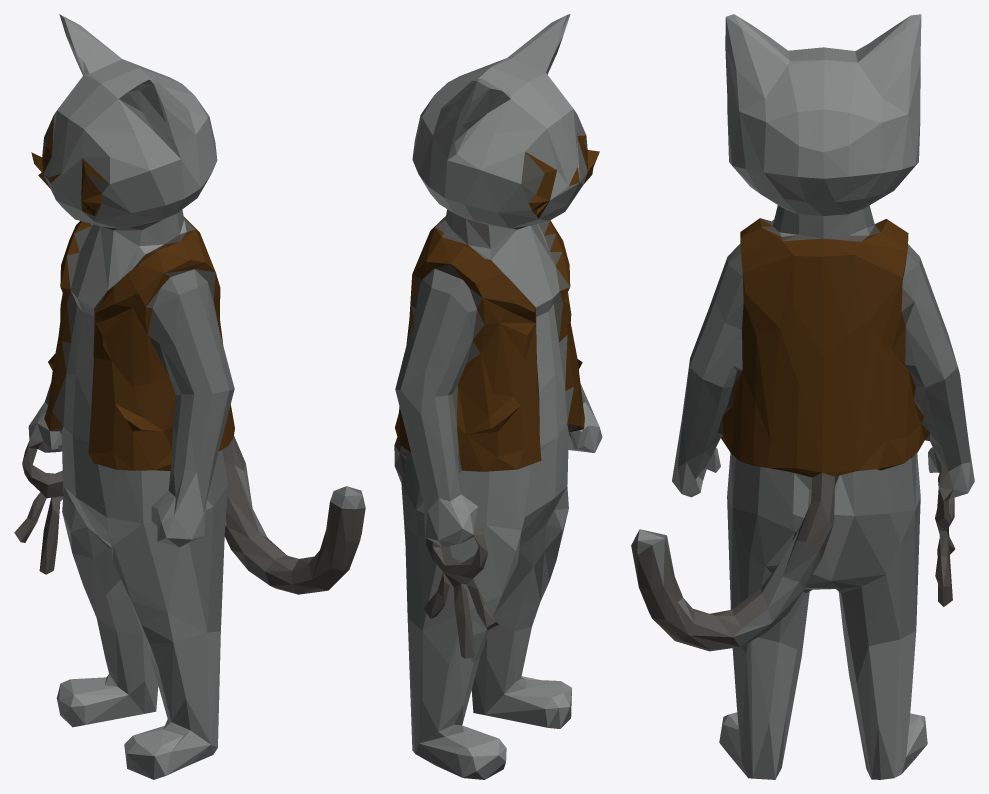
The picture shows the model from 3 angles, left to right: view 1: azimuth 30°, elevation 25°; view 2: azimuth 150°, elevation 25°; view 3: azimuth 270°, elevation 25°; orthographic projection. The views are drawn at different scales.
Parts seen in each view (by area): view 1: lion-1500; view 2: lion-1500; view 3: lion-1500.
Part boxes in pixels (x1,y1,x2,y2): lion-1500: (14,14,365,779); lion-1500: (394,14,602,779); lion-1500: (631,14,974,779).
Bounding box in the file's own units: 0.3429 × 1 × 0.4284.
